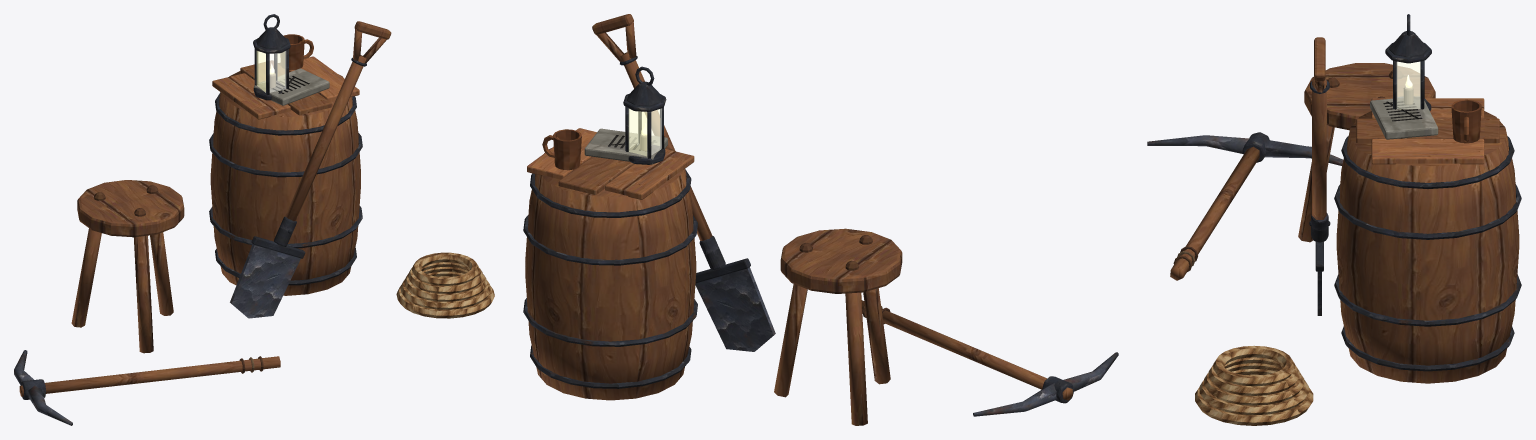
Rendered from qb_digger_rest.glb.
3 views of the same model, side by side, from view 1: azimuth 30°, elevation 25°; view 2: azimuth 150°, elevation 25°; view 3: azimuth 270°, elevation 25° (orthographic). The views are drawn at different scales.
Parts seen in each view (by area): view 1: model; view 2: model; view 3: model.
Part boxes in pixels (<box>): model: <box>14,14,494,425</box>; model: <box>523,14,1118,425</box>; model: <box>1147,14,1521,425</box>.
Bounding box in the file's own units: 1.71 × 0.9463 × 0.97.
14 materials, 10 textured.
